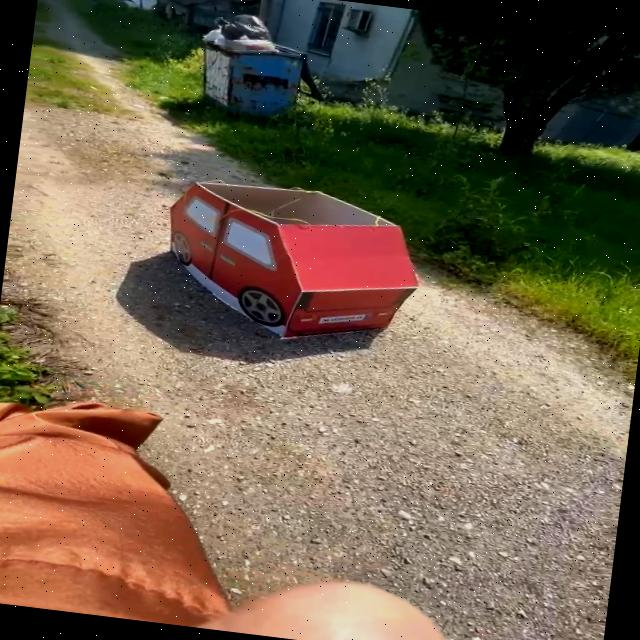red_car: (129, 140, 461, 377)
